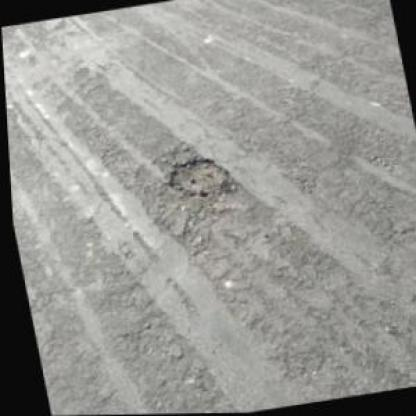pothole: (159, 151, 236, 204)
